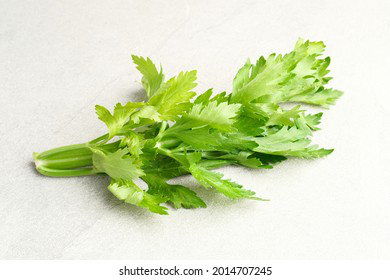Seledri: (41, 37, 341, 232)
